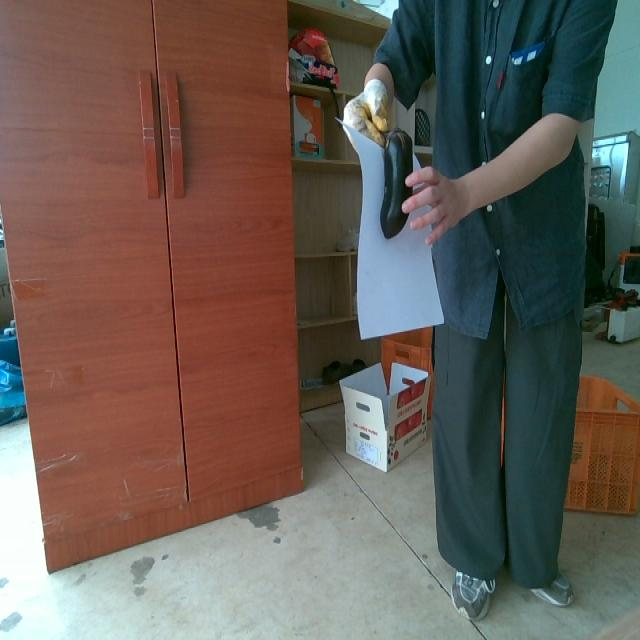Egg plant: (380, 128, 412, 237)
